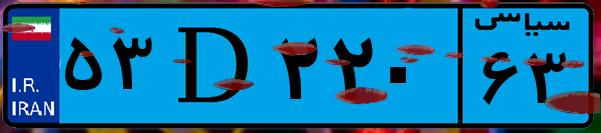0: (385, 28, 445, 110)
2: (270, 28, 330, 110), (330, 28, 385, 110)
3: (525, 38, 570, 115), (110, 28, 158, 98)
5: (57, 26, 110, 100)
6: (475, 38, 525, 113)
D: (158, 12, 270, 120)
